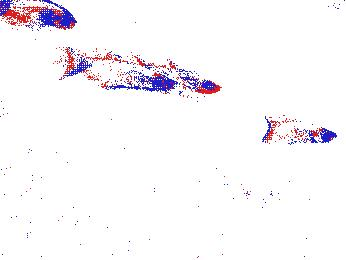X-ray fish: (251, 178, 331, 224)
red belly glassfish: (217, 175, 263, 195)
redtail glassfish: (60, 43, 177, 94), (132, 53, 221, 94), (262, 112, 337, 148), (1, 1, 79, 33)
